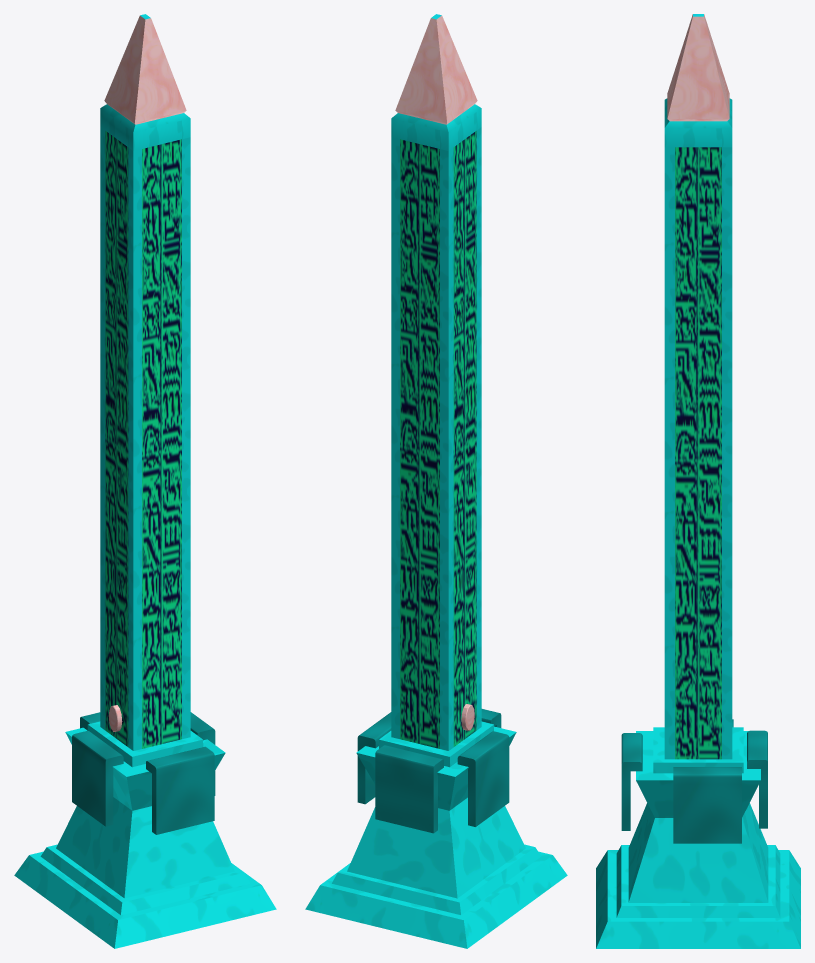
The model's file is SM_Obelisk_01.fbx.
3 views of the same model, side by side, from view 1: azimuth 30°, elevation 25°; view 2: azimuth 150°, elevation 25°; view 3: azimuth 270°, elevation 25° (orthographic).
Visible parts, largest first — view 1: SM_Obelisk_02, pCube44, pCube49, pCube45; view 2: SM_Obelisk_02, pCube44, pCube48, pCube45, pCube47; view 3: SM_Obelisk_02, pCube44, pCube47, pCube49, pCube48.
Boxes of the visible parts, x1,y1,x2,y2 form: SM_Obelisk_02: [100, 14, 190, 750]; pCube44: [14, 721, 276, 948]; pCube49: [146, 746, 214, 834]; pCube45: [72, 731, 123, 826]; SM_Obelisk_02: [391, 14, 481, 750]; pCube44: [305, 721, 567, 948]; pCube48: [375, 745, 443, 833]; pCube45: [457, 731, 509, 826]; pCube47: [357, 712, 391, 804]; SM_Obelisk_02: [664, 14, 732, 759]; pCube44: [596, 727, 800, 948]; pCube47: [673, 767, 741, 843]; pCube49: [621, 733, 642, 830]; pCube48: [747, 730, 767, 828].
Bounding box in the file's own units: 5.11 × 26.36 × 5.48.
Materials: 1 (1 with a texture image).
